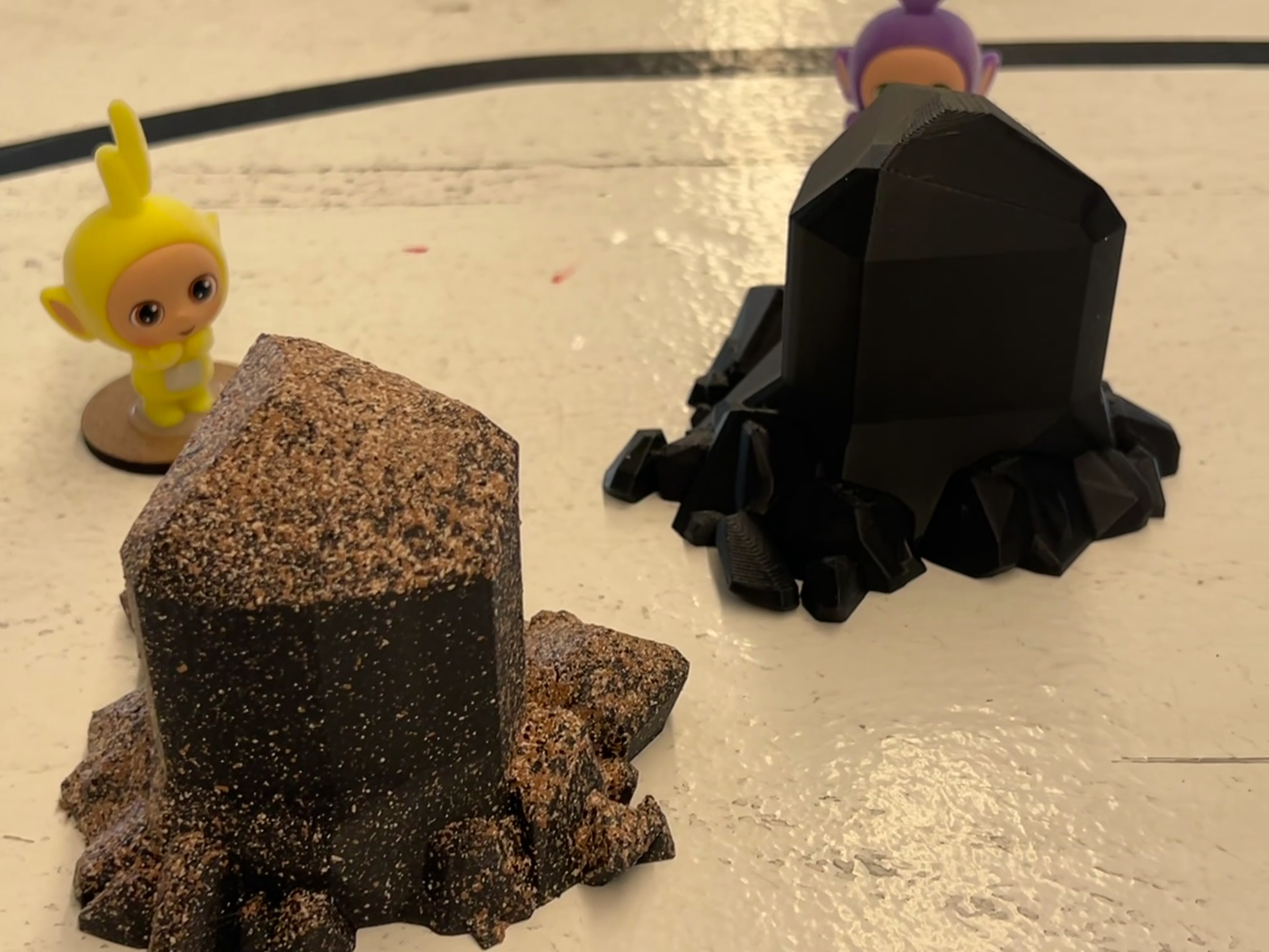teletubby: (40, 100, 228, 431), (834, 0, 1001, 127)
